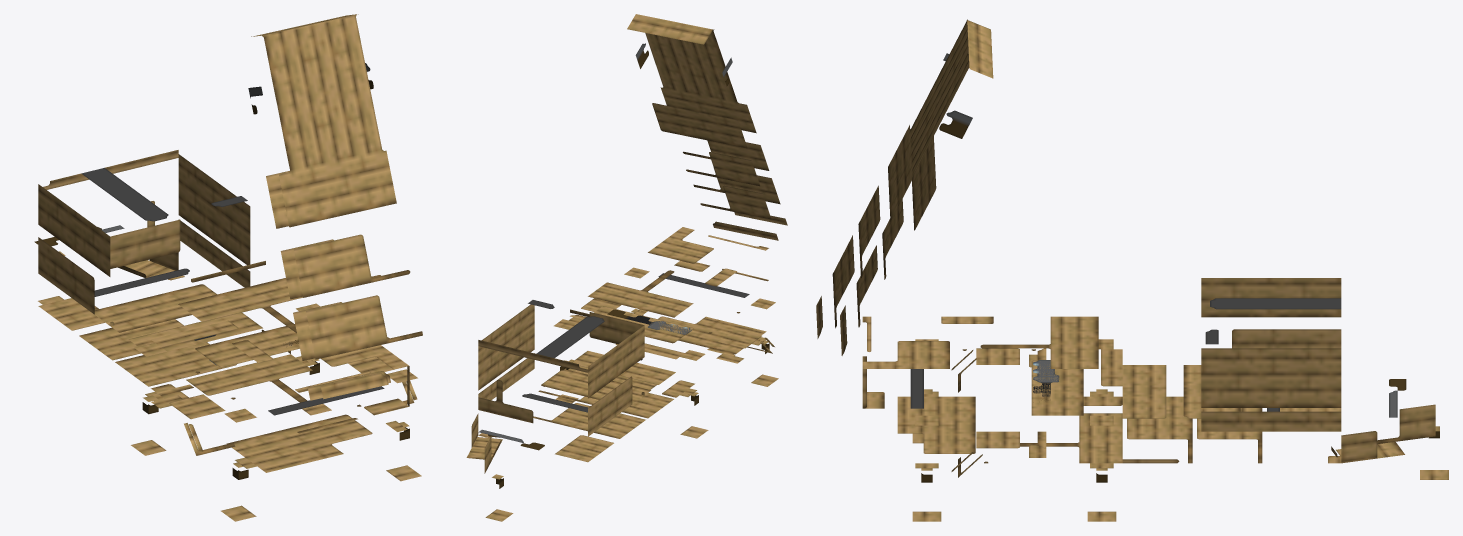
The model's file is antps80.obj.
3 views of the same model, side by side, from view 1: azimuth 30°, elevation 25°; view 2: azimuth 150°, elevation 25°; view 3: azimuth 270°, elevation 25° (orthographic). The views are drawn at different scales.
Parts seen in each view (by area): view 1: cube_5, cube_9, cube_8, cube_6, cube_3, cube, cube_14; view 2: cube_5, cube_9, cube_8, cube_3, cube_6, cube_14, cube, cube_31; view 3: cube_9, cube_5, cube_6, cube_3, cube_8, cube_14, cube_31, cube.
Part boxes in pixels (box(x1,y1,x2,y2)): cube_5: box(248, 14, 422, 400); cube_9: box(38, 150, 250, 325); cube_8: box(38, 268, 290, 386); cube_6: box(151, 320, 372, 472); cube_3: box(178, 261, 409, 433); cube: box(151, 384, 225, 419); cube_14: box(97, 227, 178, 282); cube_5: box(627, 14, 787, 240); cube_9: box(478, 300, 644, 436); cube_8: box(478, 351, 675, 462); cube_3: box(570, 227, 768, 334); cube_6: box(568, 306, 766, 397); cube_14: box(466, 413, 502, 473); cube: box(707, 329, 761, 363); cube_31: box(569, 298, 621, 322); cube_9: box(1201, 278, 1341, 431); cube_5: box(816, 19, 993, 355); cube_6: box(897, 349, 1122, 463); cube_3: box(862, 316, 1098, 408); cube_8: box(1122, 365, 1341, 463); cube_14: box(1331, 404, 1435, 463); cube_31: box(976, 431, 1046, 457); cube: box(976, 348, 1046, 367).
Bounding box in the file's own units: 2.55 × 5.06 × 6.59.
